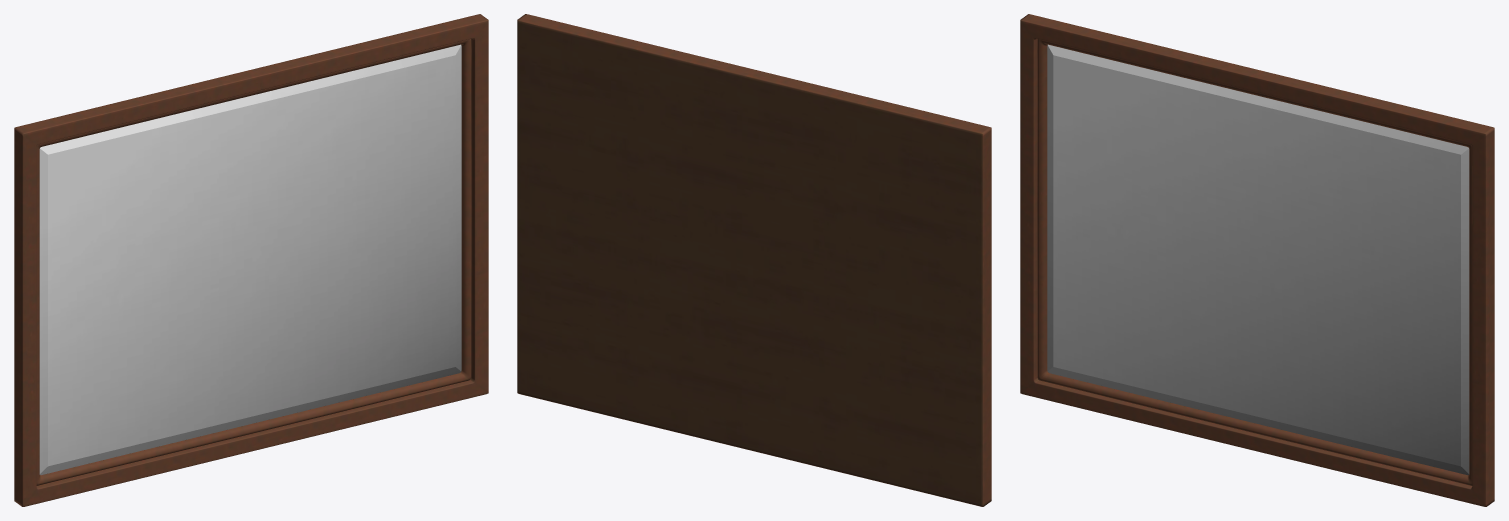
The model's file is abo-B07B4W5R8N.glb.
The picture shows the model from 3 angles, left to right: view 1: azimuth 30°, elevation 25°; view 2: azimuth 150°, elevation 25°; view 3: azimuth 330°, elevation 25°; orthographic projection.
Size of the model in its own units: 1.33 by 1.02 by 0.045.
Materials: 1 (1 with a texture image).
